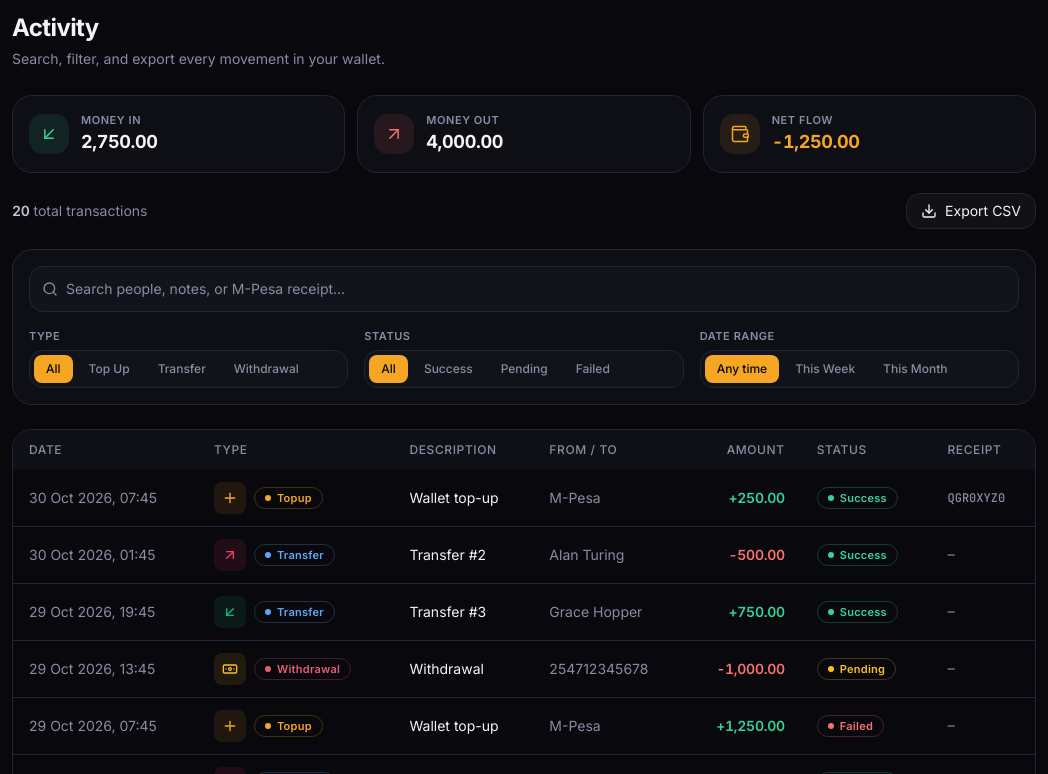
Test case: Transactions › filters by type
Expected: the text "Transfer #2" is shown, x1=394 y1=526 x2=533 y2=583
Click the button "Top Up": [109, 369] box x1=77 y1=355 x2=142 y2=383
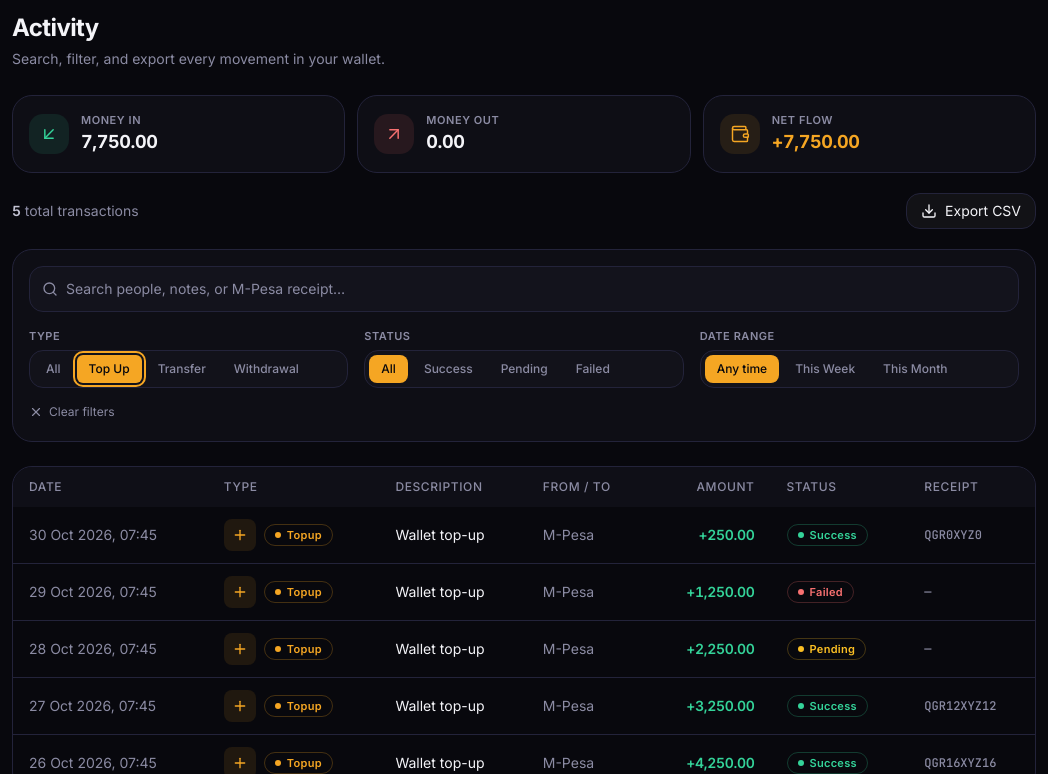
Expected: the text "Wallet top-up" in the row of "30 Oct 2026, 07:45" is shown, x1=395 y1=526 x2=484 y2=543
Expected: the text "Transfer #" is not shown
